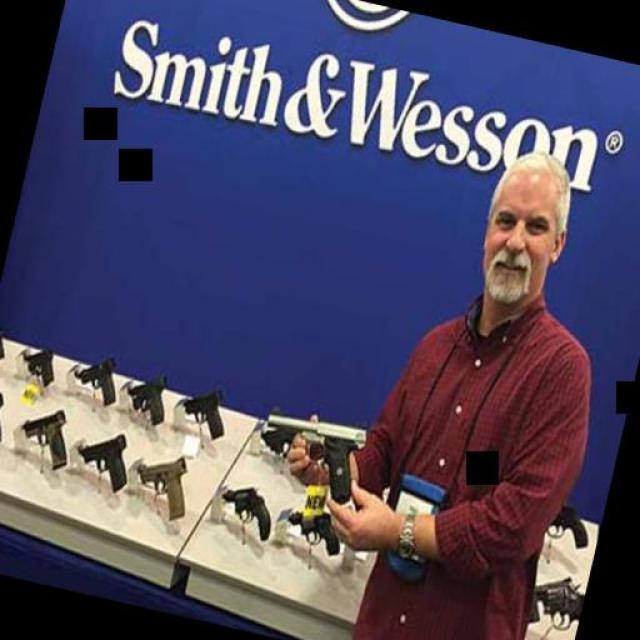gun: (248, 397, 368, 498), (119, 443, 209, 522), (520, 559, 586, 640), (73, 416, 144, 490), (10, 401, 81, 474), (210, 472, 281, 544), (540, 484, 600, 551), (170, 380, 232, 444), (65, 349, 125, 411), (280, 499, 346, 555), (118, 365, 172, 429), (15, 340, 60, 382), (0, 387, 11, 452)
